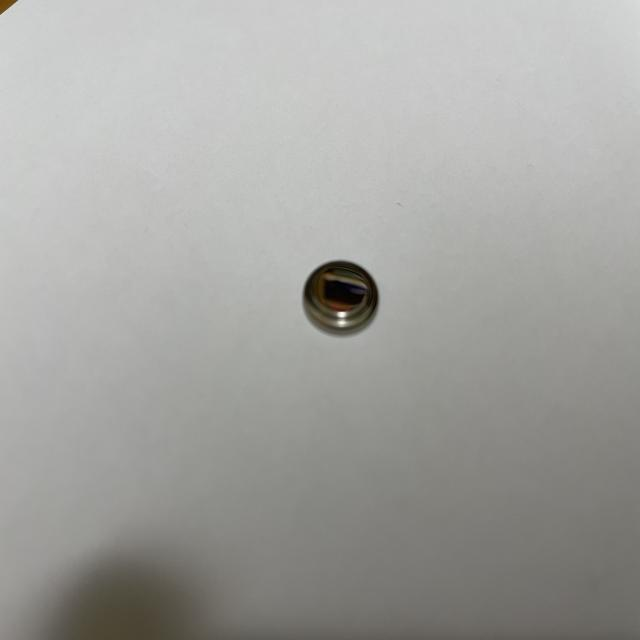COIN: (302, 258, 380, 336)
